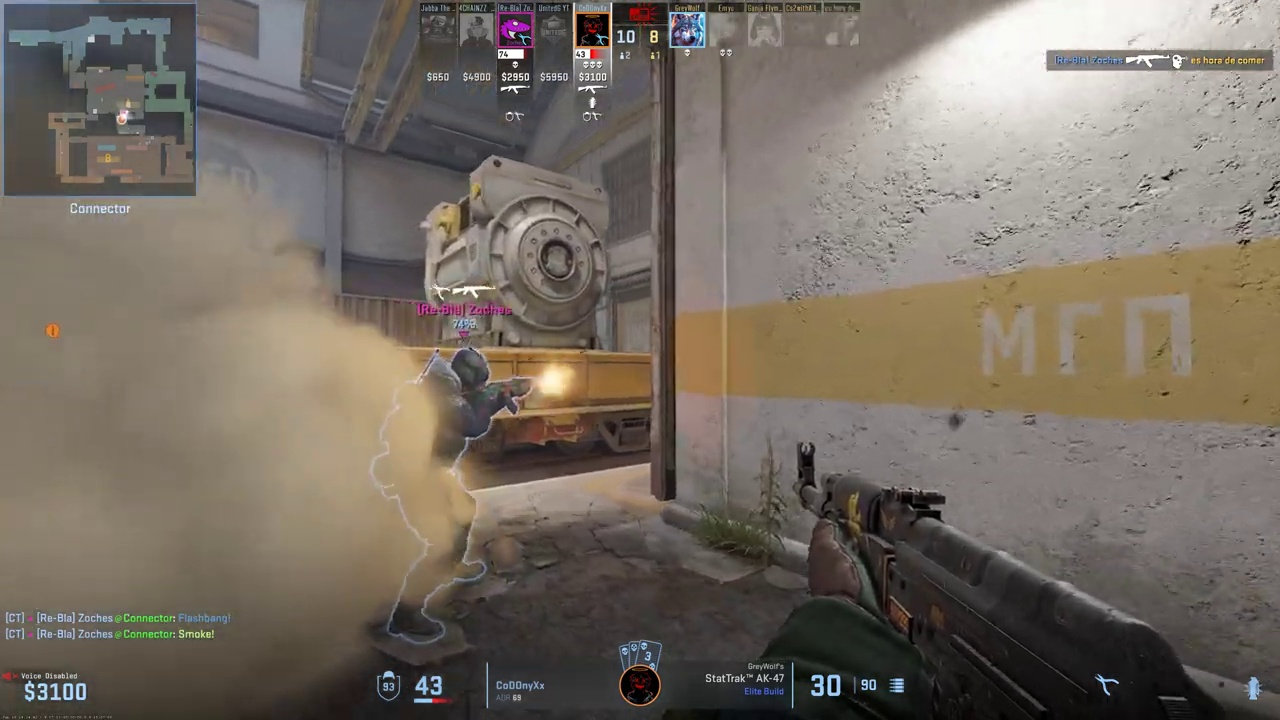CT: (381, 353, 508, 638)
